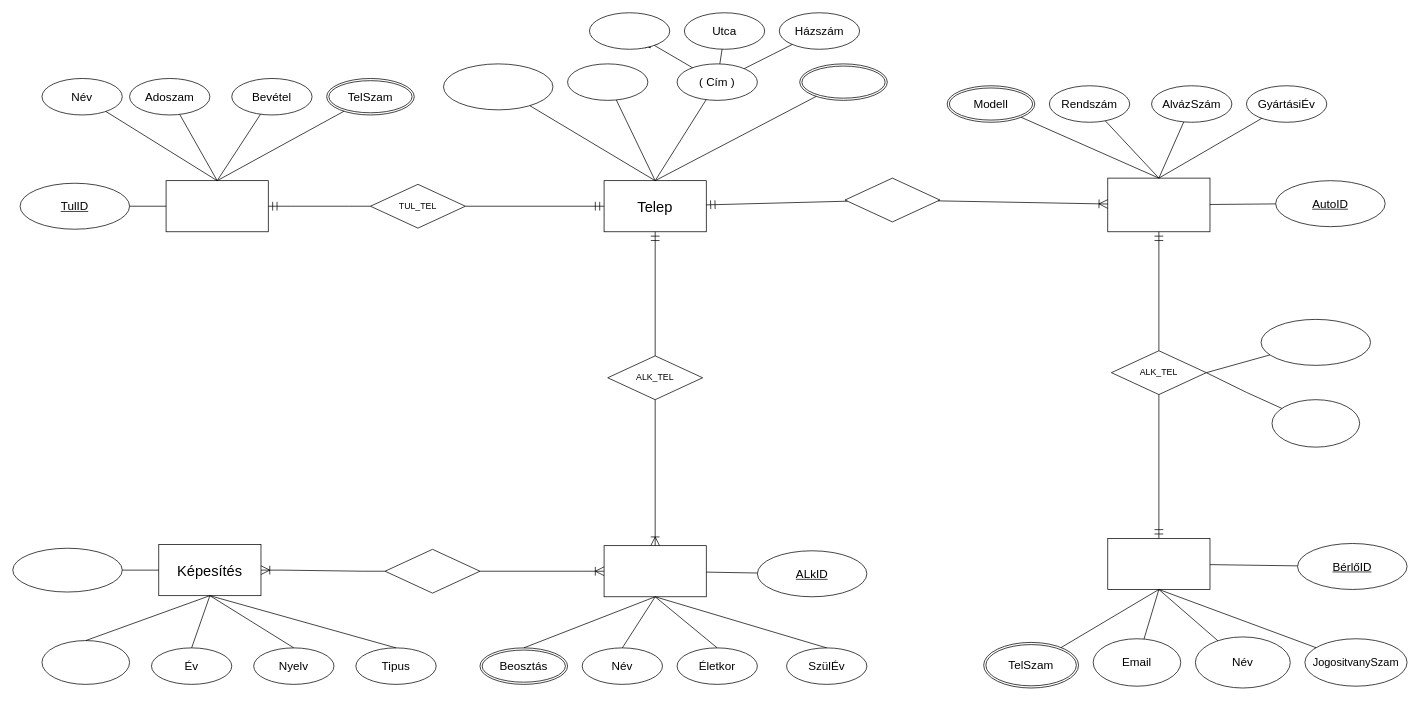
Some shapes in this 1420 by 705 pixel diagram are drawn without their labels. The shapes that lost their labels are listed below. From the top down, each one's centre as x and y in pixels, then its label:
At point 629,30: "Település".
At point 498,86: "TelepID".
At point 607,81: "Kapacitas".
At point 843,81: "Minősítés".
At point 216,206: "Tulajdonos".
At point 892,199: "TEL_AUTO".
At point 1158,204: "Autok".
At point 1315,342: "BérlésID".
At point 1315,423: "Datum".
At point 67,570: "KépesítésID".
At point 432,571: "KÉPS_ALK".
At point 654,571: "Alkalmazottak".
At point 1158,563: "Bérlő".
At point 85,662: "Biz.szám".
